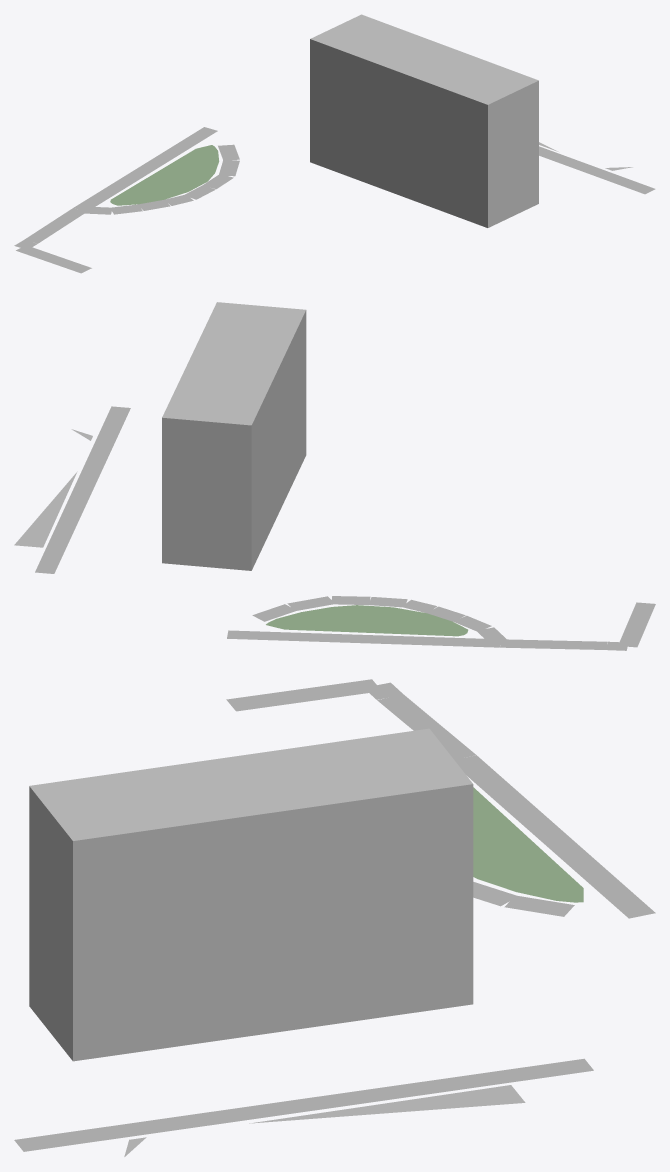
The picture shows the model from 3 angles, top to bottom: view 1: azimuth 30°, elevation 25°; view 2: azimuth 150°, elevation 25°; view 3: azimuth 270°, elevation 25°; orthographic projection. The views are drawn at different scales.
Size of the model in its own units: 189 by 40.86 by 107.
